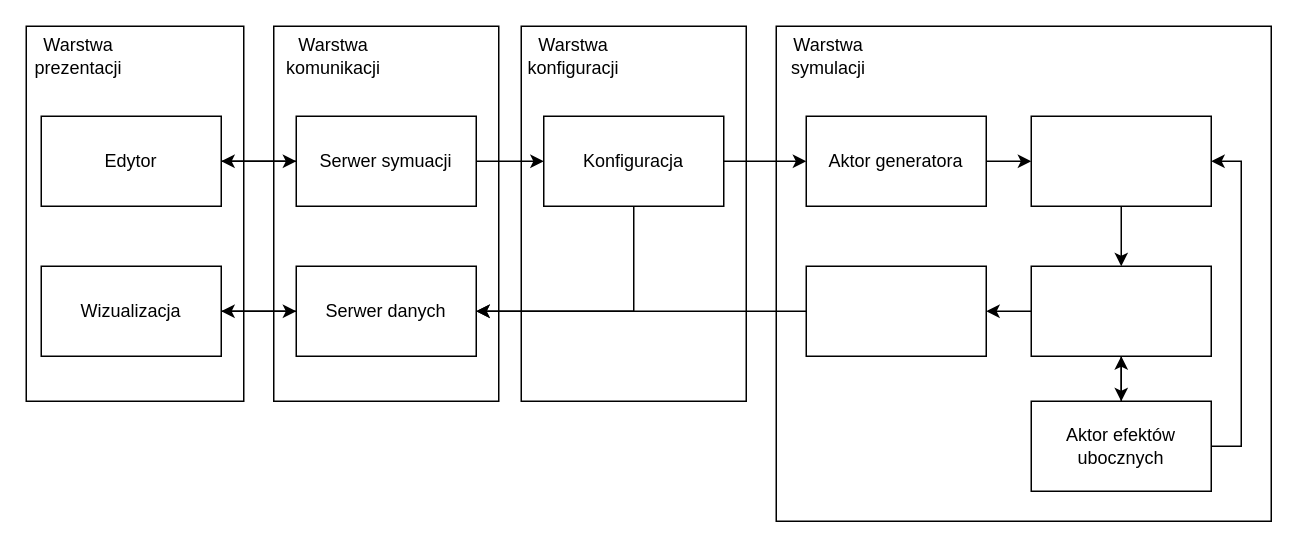
Some shapes in this 1298 by 548 pixel diagram are drawn without their labels. Here are the shapes that lost their labels. From the top down, the centre of each, then its label:
pixel 1120 160: Aktor bankomatu
pixel 895 310: Dziennik danych
pixel 1120 310: Aktor wyjścia
